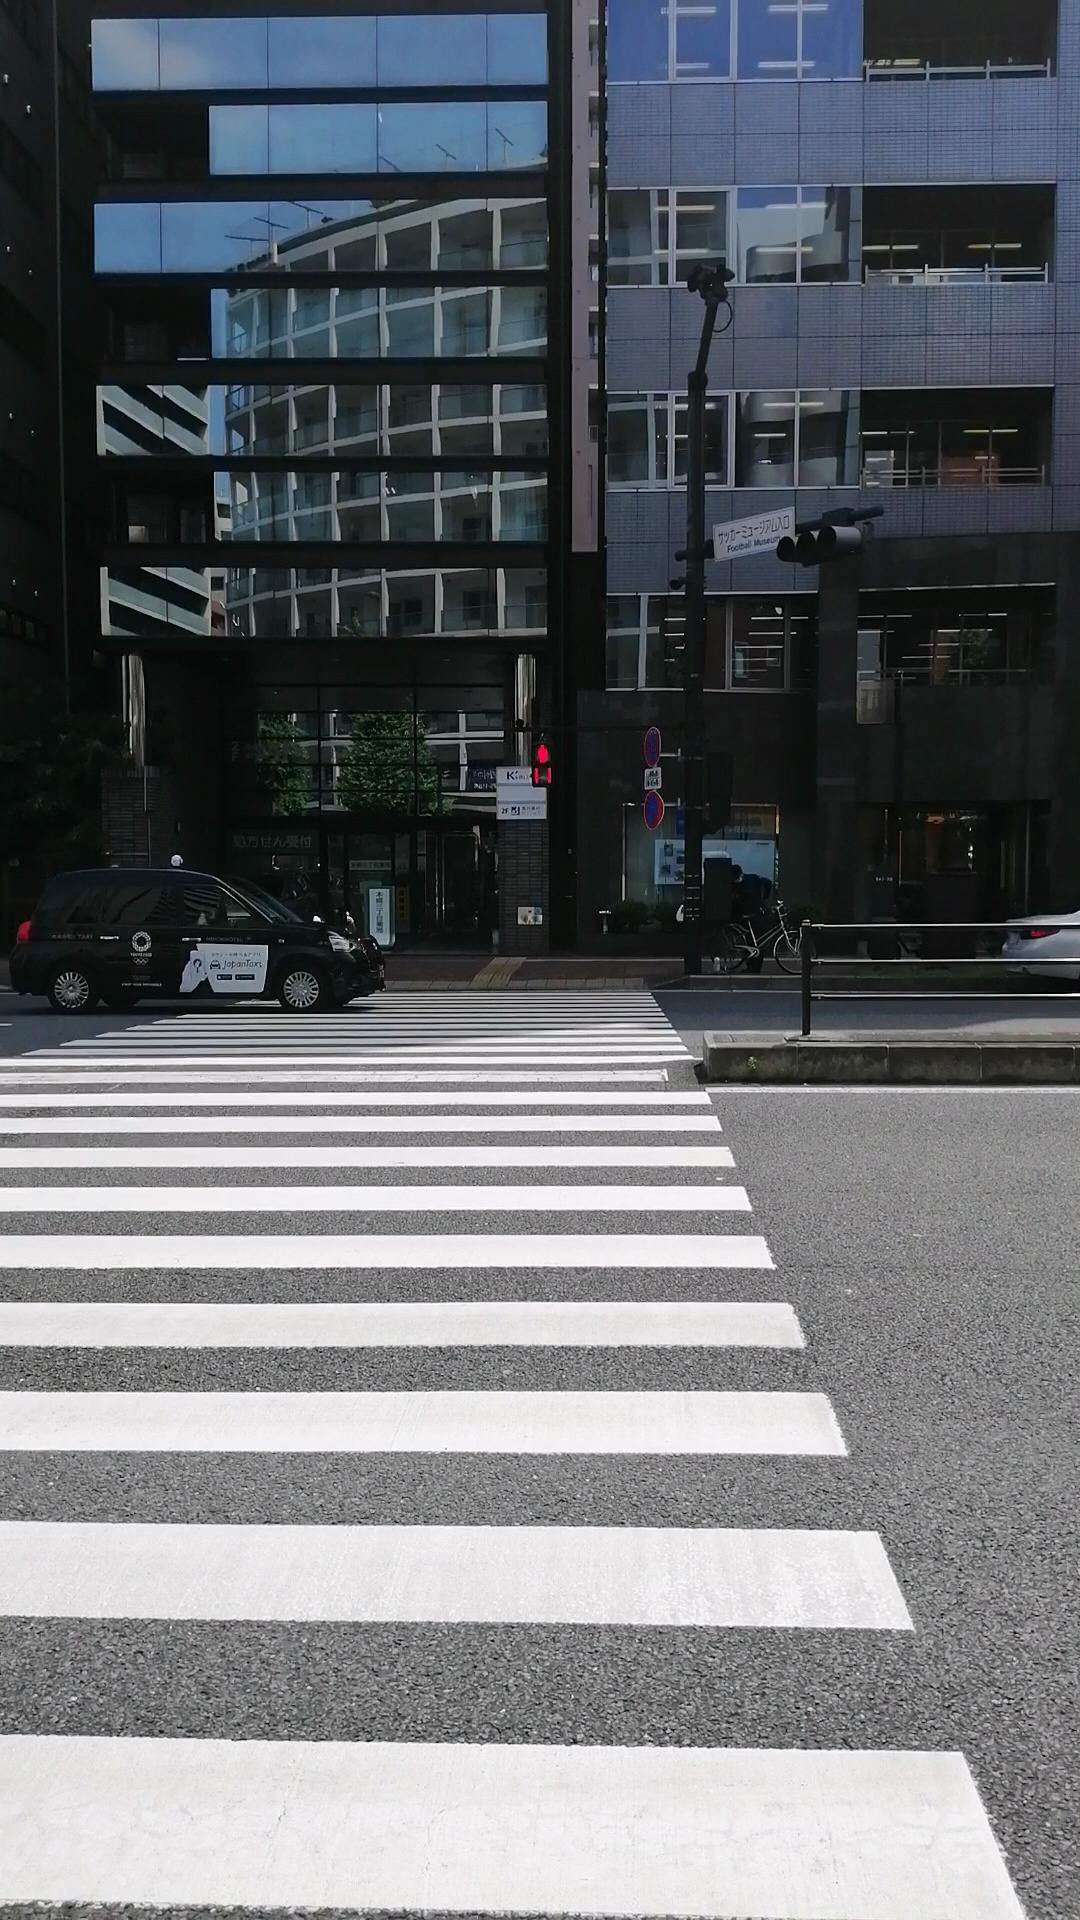red: (530, 740, 556, 789)
